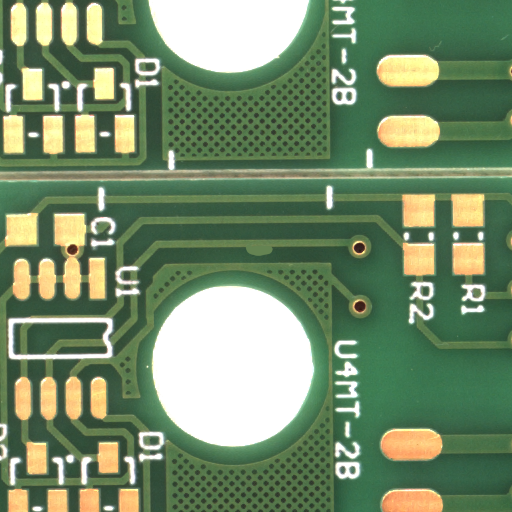Spur: (260, 250, 295, 262)
